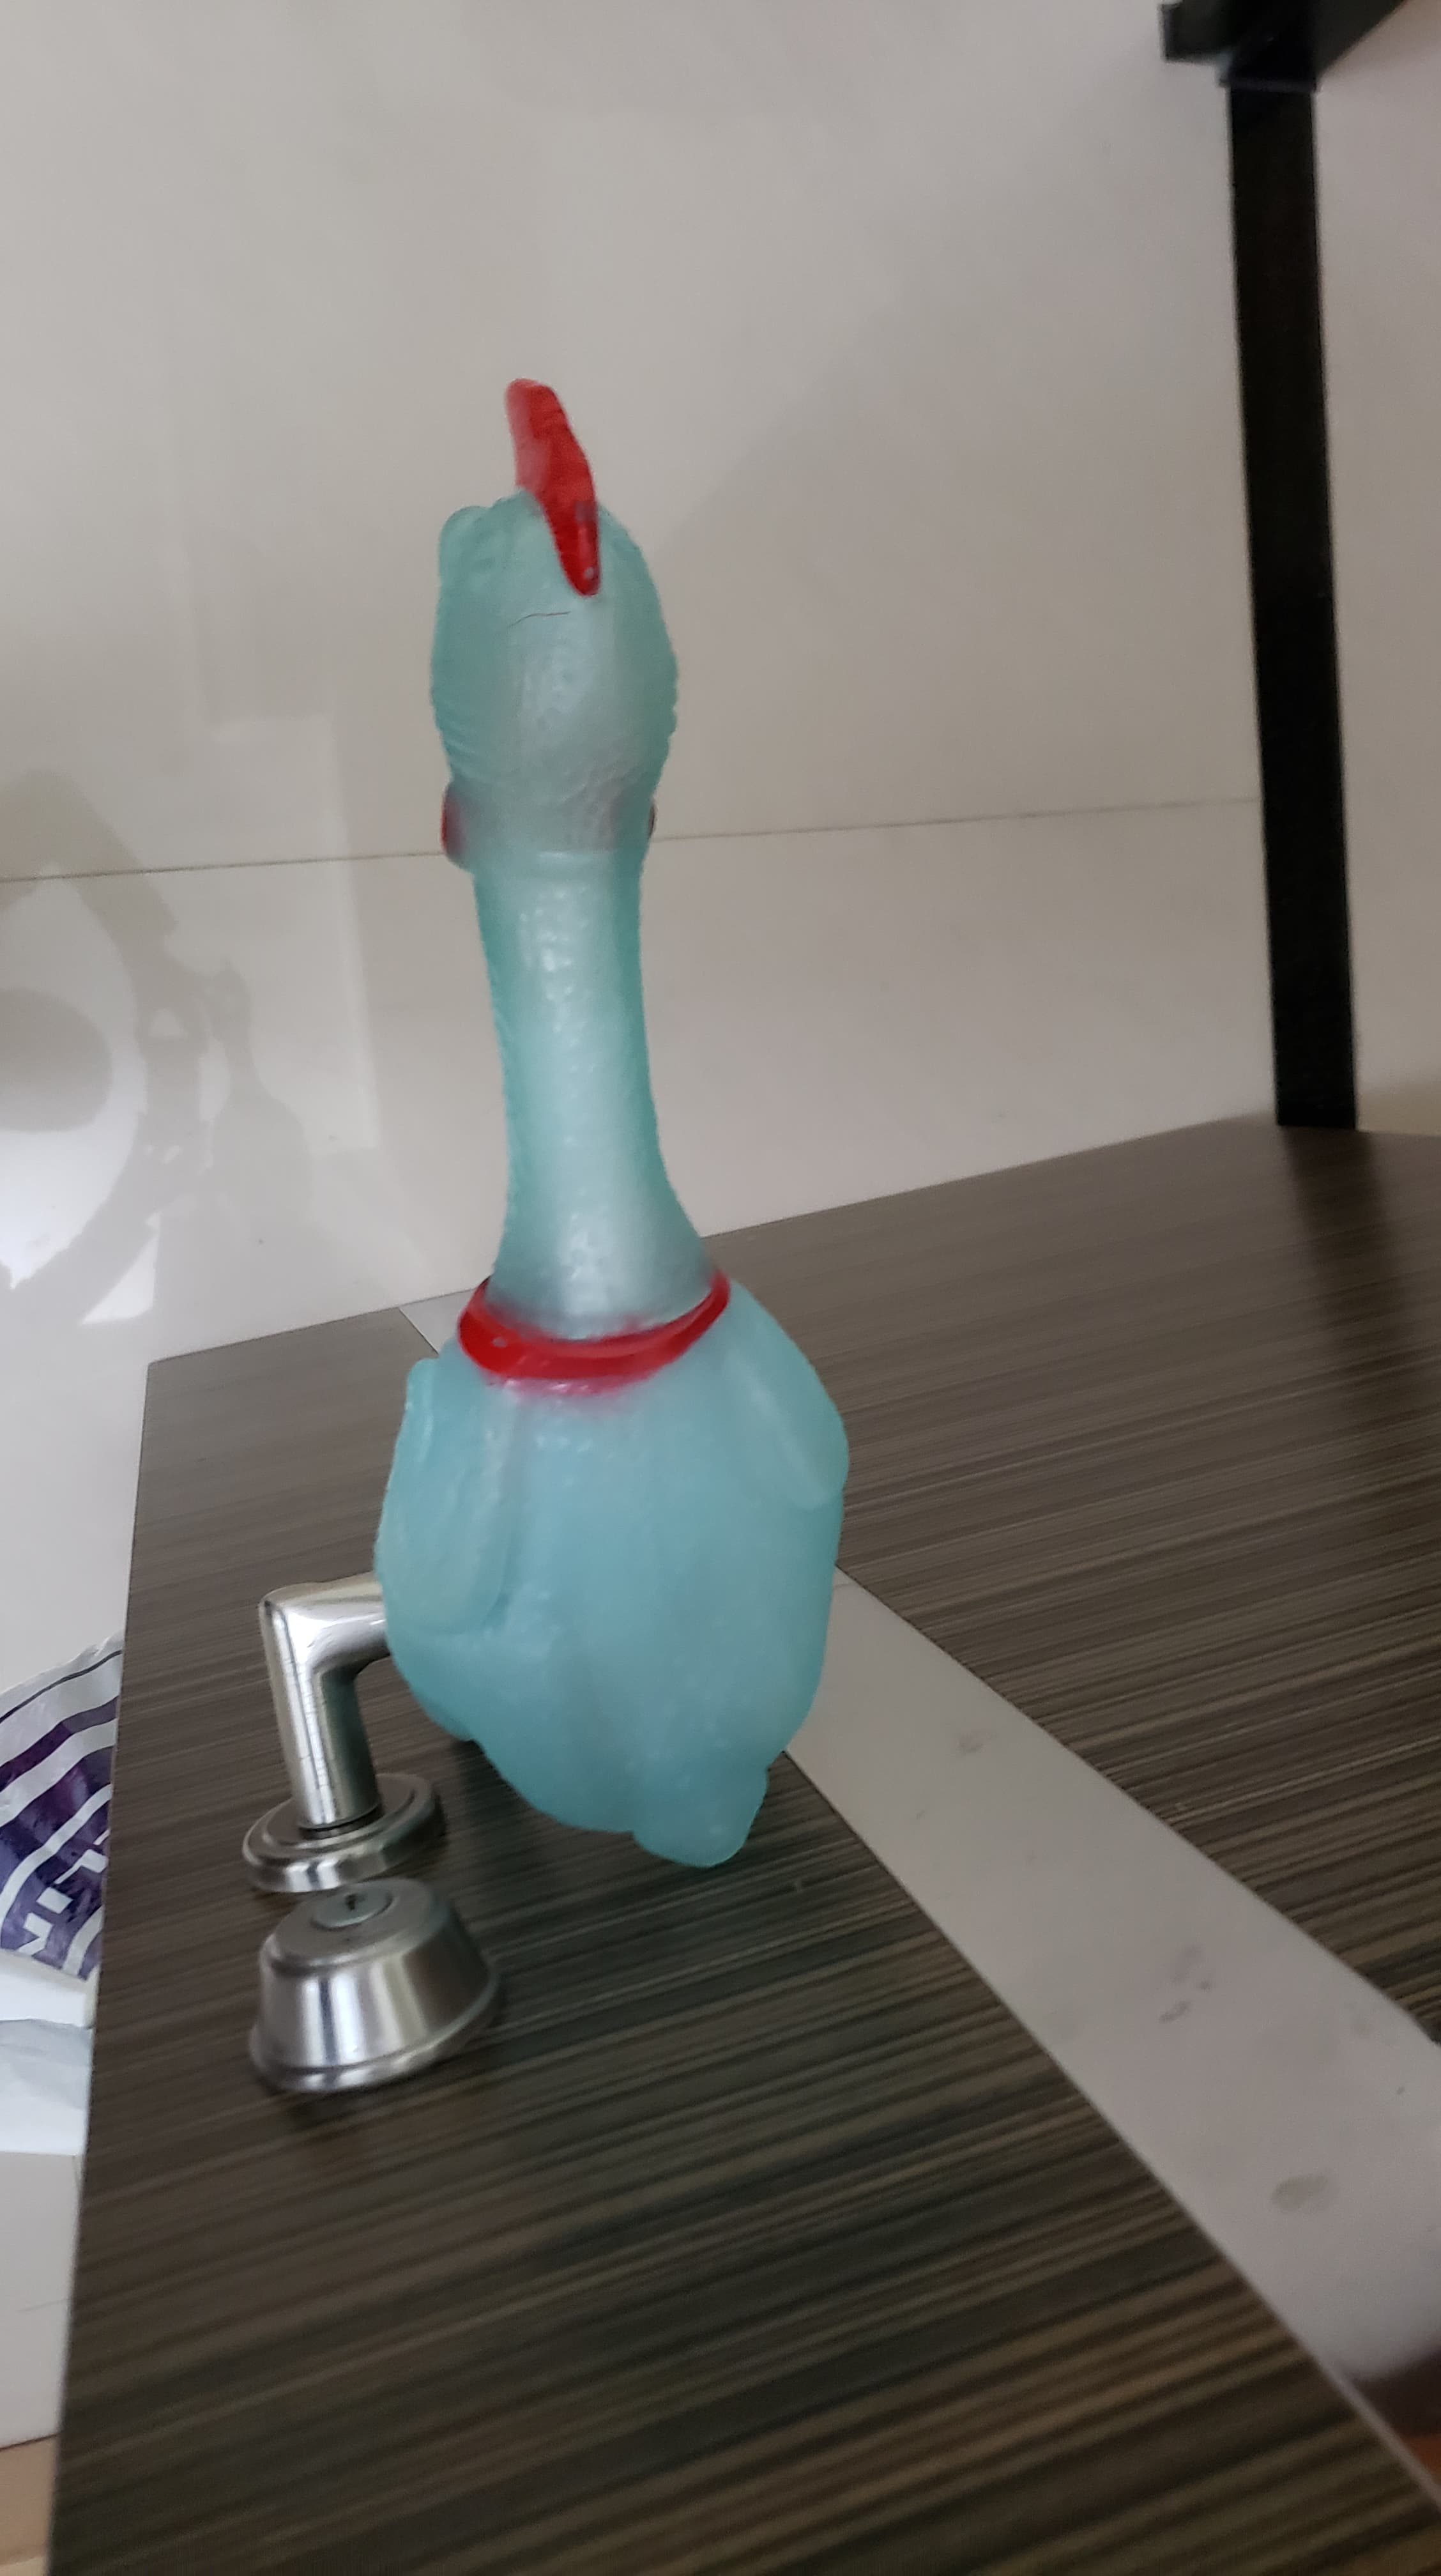Screaming chicken: (292, 357, 939, 1902)
